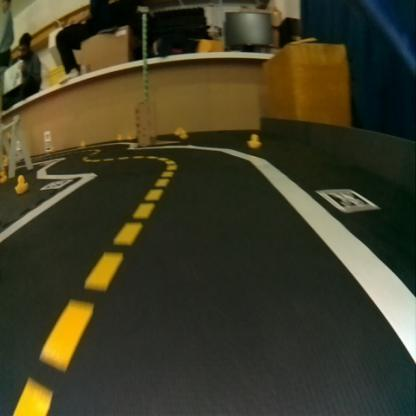Duckie: (14, 175, 26, 192), (247, 134, 258, 148), (180, 129, 186, 138), (174, 126, 180, 134), (116, 134, 121, 140)
QR code: (318, 189, 378, 211), (40, 179, 72, 188)
